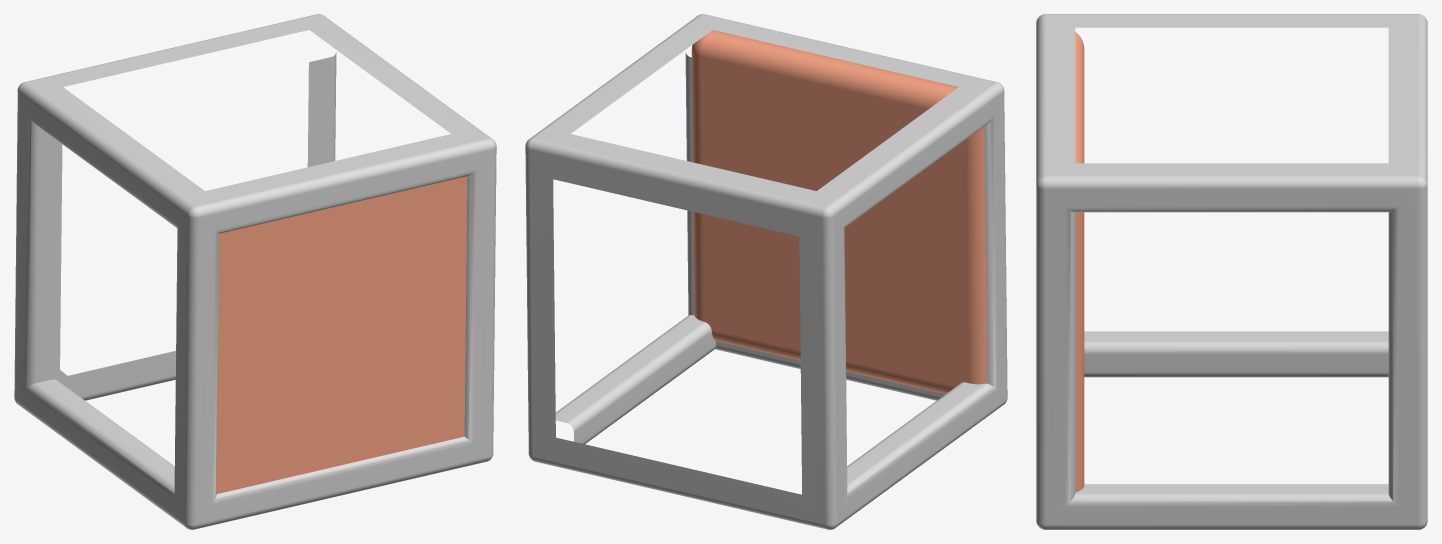
The model's file is projectCube2.glb.
3 renders of one model, left to right at view 1: azimuth 30°, elevation 25°; view 2: azimuth 150°, elevation 25°; view 3: azimuth 270°, elevation 25°, orthographic. The views are drawn at different scales.
Parts seen in each view (by area): view 1: Box, Box 1; view 2: Box, Box 1; view 3: Box, Box 1.
Part boxes in pixels (left/top/right/bottom): Box: left=14, top=14, right=496, bottom=529; Box 1: left=216, top=176, right=467, bottom=493; Box: left=525, top=14, right=1007, bottom=529; Box 1: left=691, top=30, right=987, bottom=394; Box: left=1036, top=14, right=1427, bottom=529; Box 1: left=1075, top=32, right=1084, bottom=492.
Size of the model in its own units: 0.1011 by 0.1011 by 0.1.
